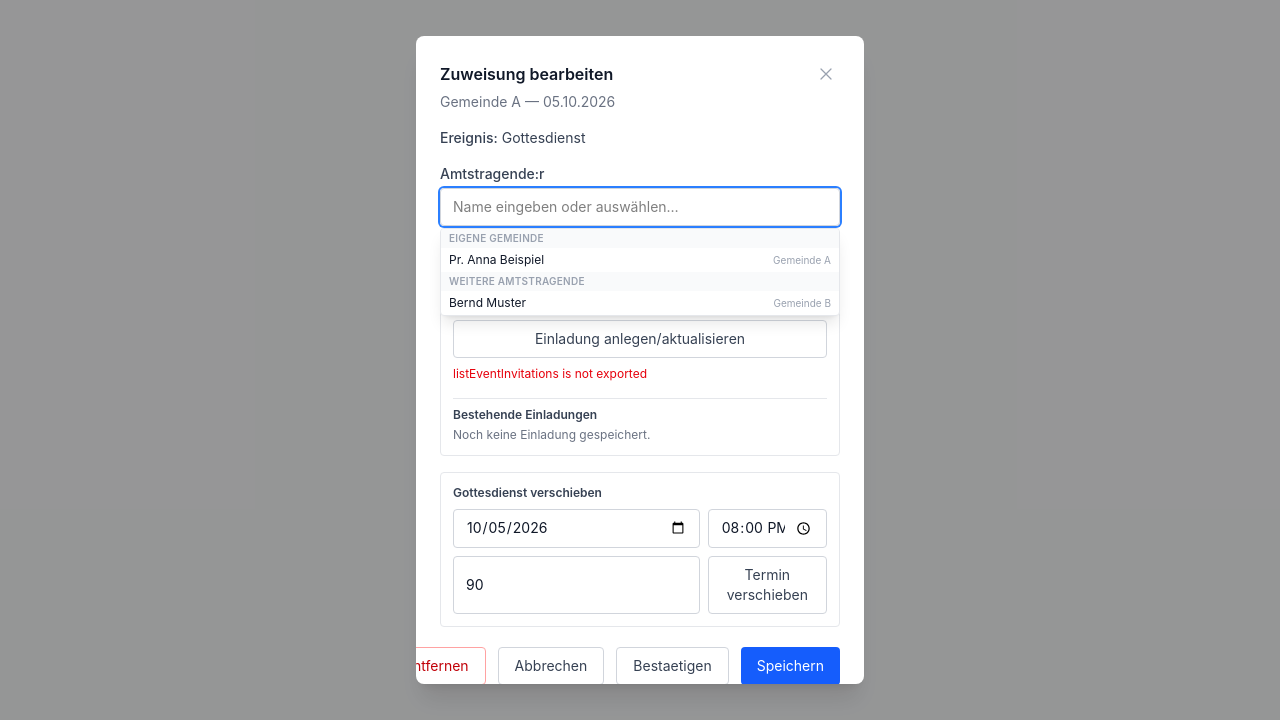
Test: AssignmentModal › refreshes the matrix and explains a stale event (412) when removing
Click the button "Entfernen".
click(437, 666)  # box top-left (388, 647), bottom-right (486, 685)
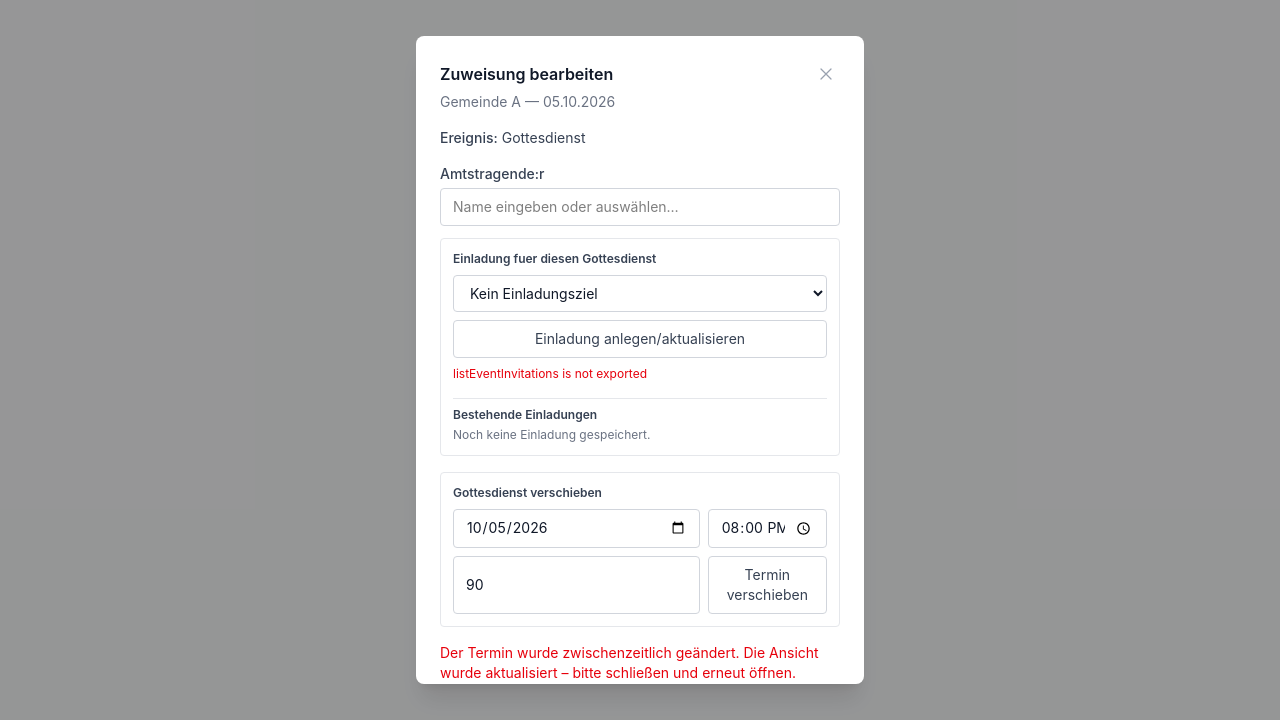
Expected: the text "zwischenzeitlich geändert" is shown, top-left (440, 644), bottom-right (819, 681)
